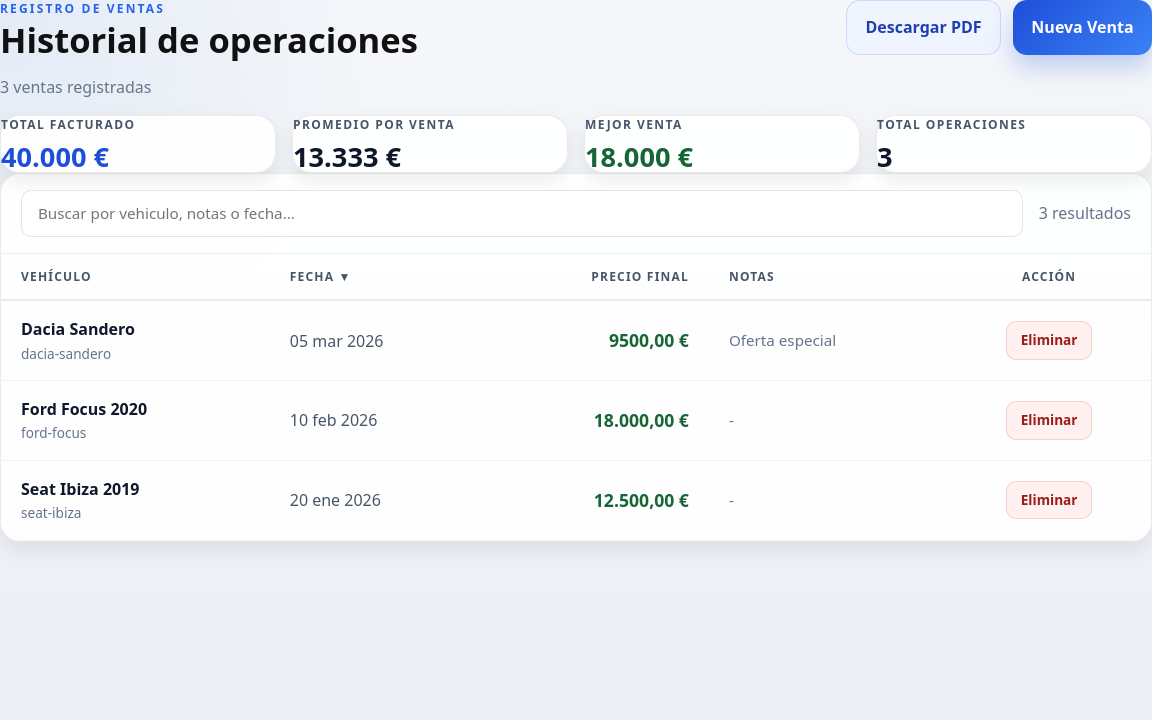
Scenario: SalesRecordsView › shows new sale form when button clicked
Click the button "Nueva Venta".
click(1082, 27)  # box [1013,0,1151,55]
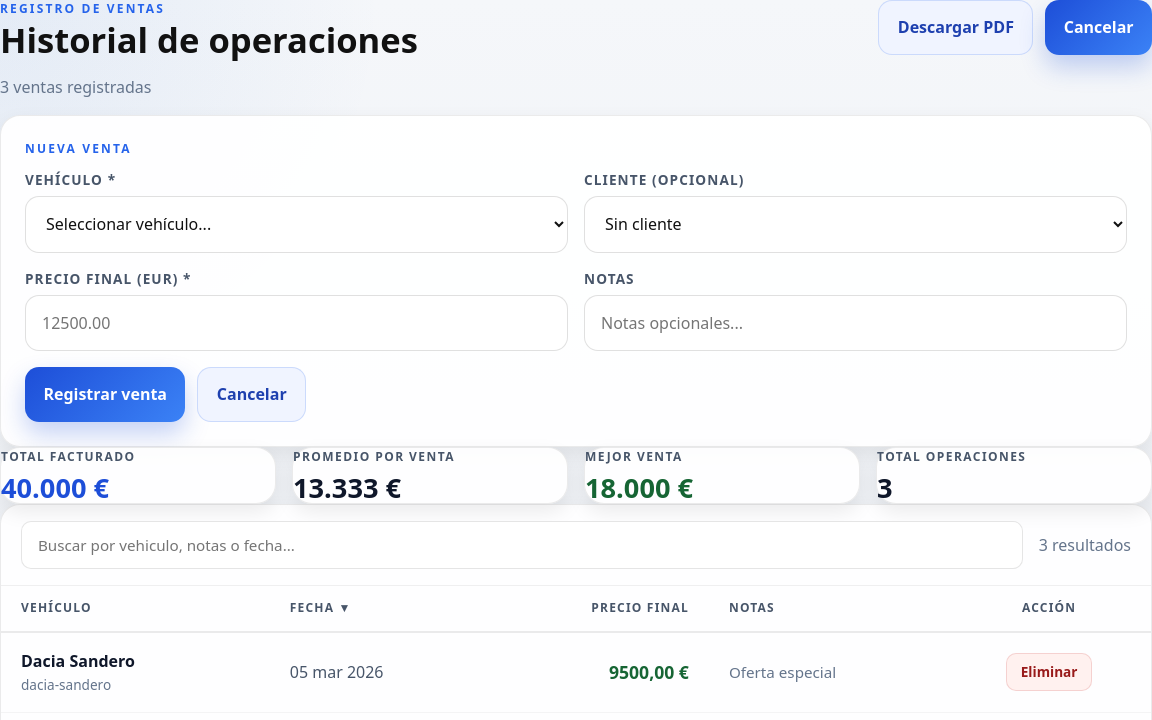
expect the text "Nueva venta" is shown: met, box [25,140,132,157]
expect the button "Registrar venta" is shown: met, box [25,367,185,422]
